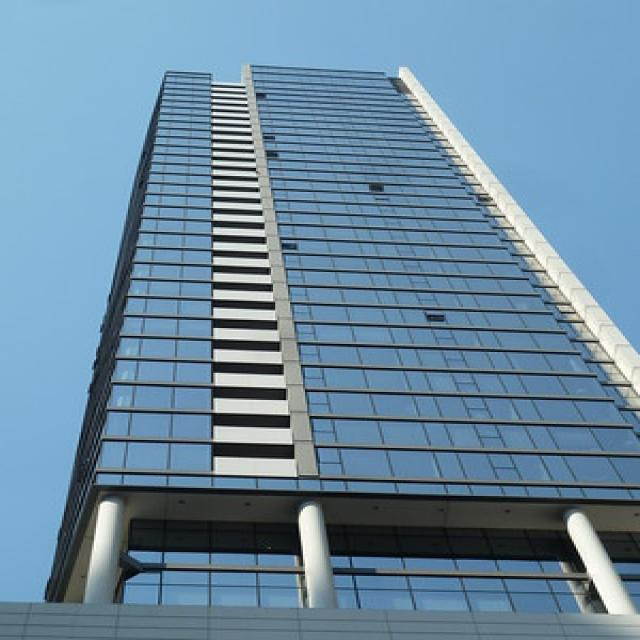building: (38, 62, 640, 640)
